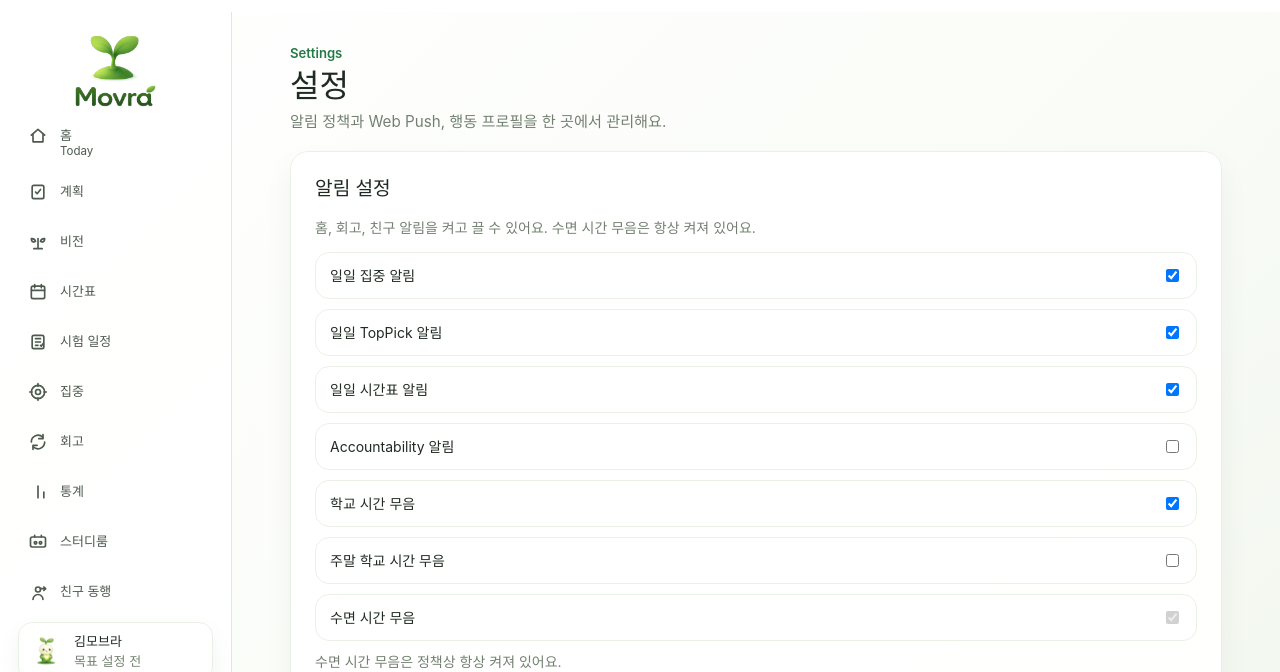
SettingsPage notification section › submits the full preference body on save
Click the checkbox labelled "일일 집중 알림": coordinates (1172, 275) [1166,269,1179,282]
(page scrolled)
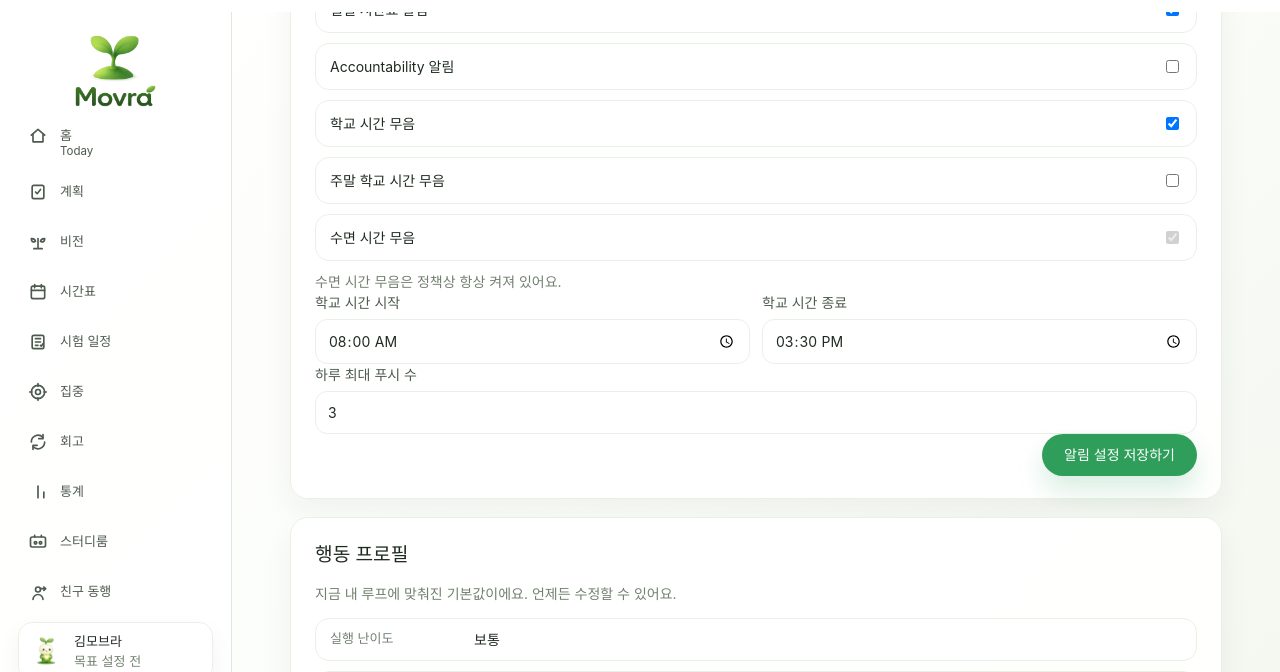
Replace the text in the number field labelled "하루 최대 푸시 수" with "5": coordinates (756, 412) [315,391,1197,434]
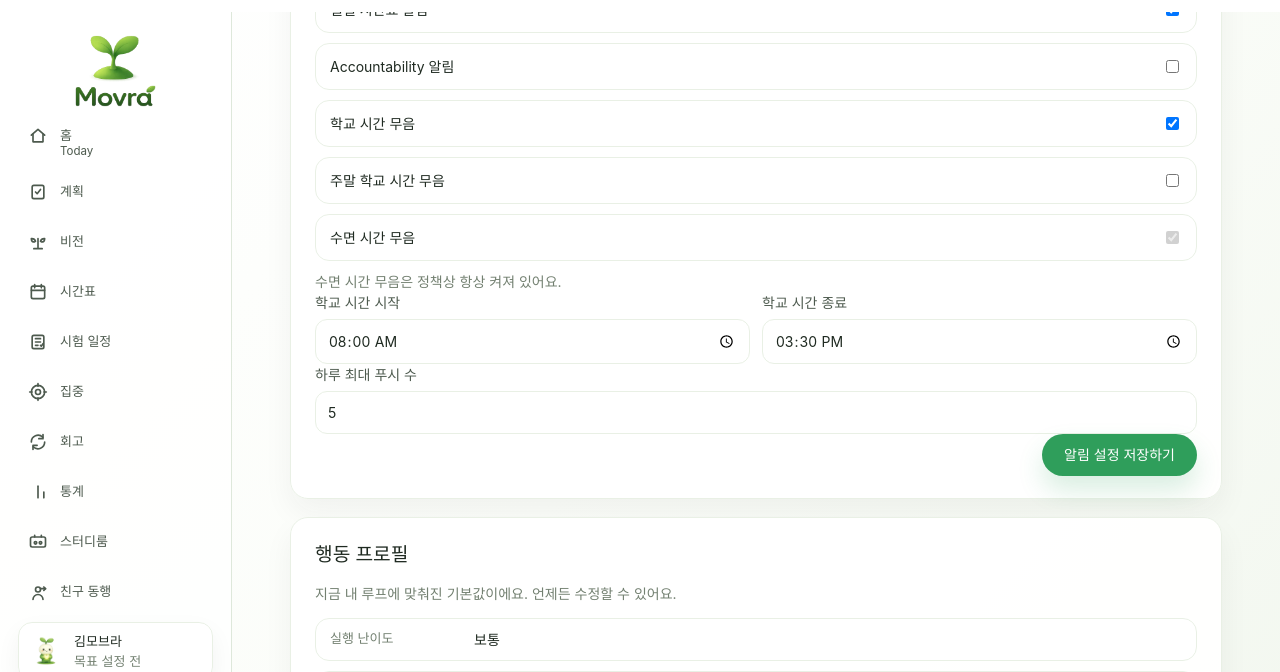
Click the button "알림 설정 저장하기": coordinates (1120, 455) [1042,434,1197,476]
(page scrolled)
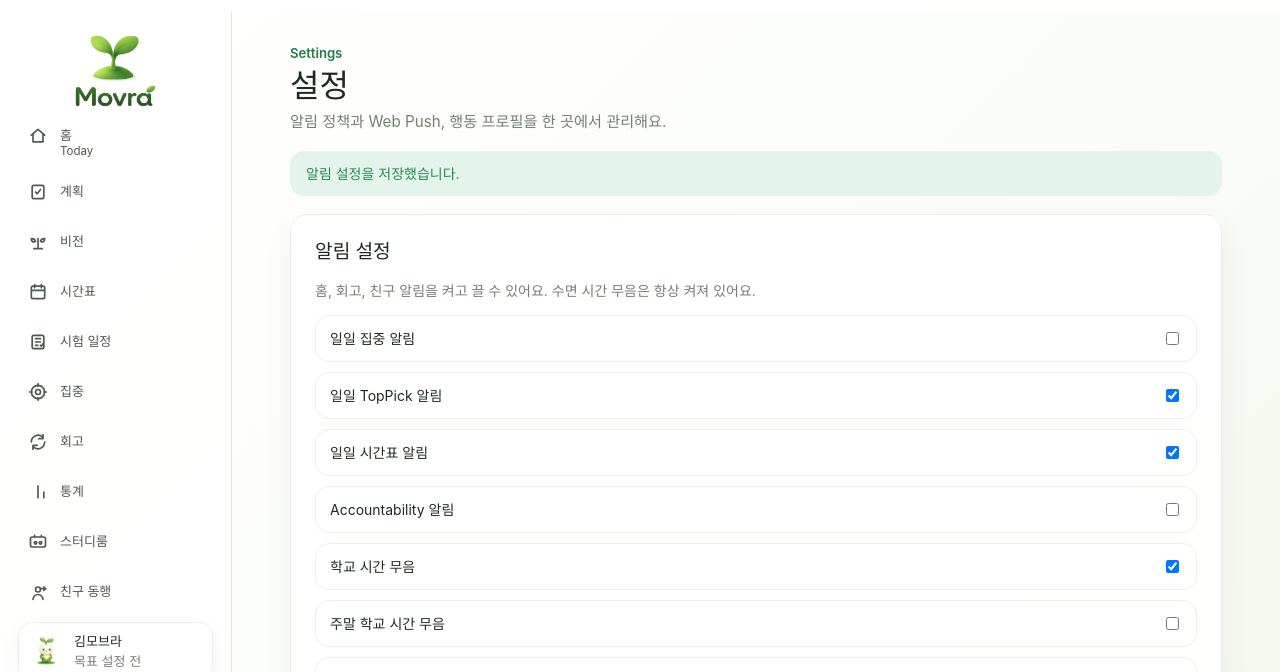
Now the text "알림 설정을 저장했습니다." is shown, box [290,151,1222,196]
